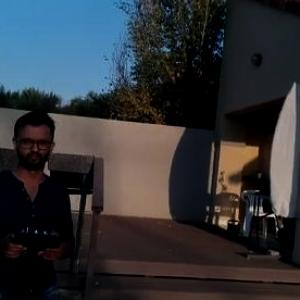follow: (0, 100, 81, 299)
